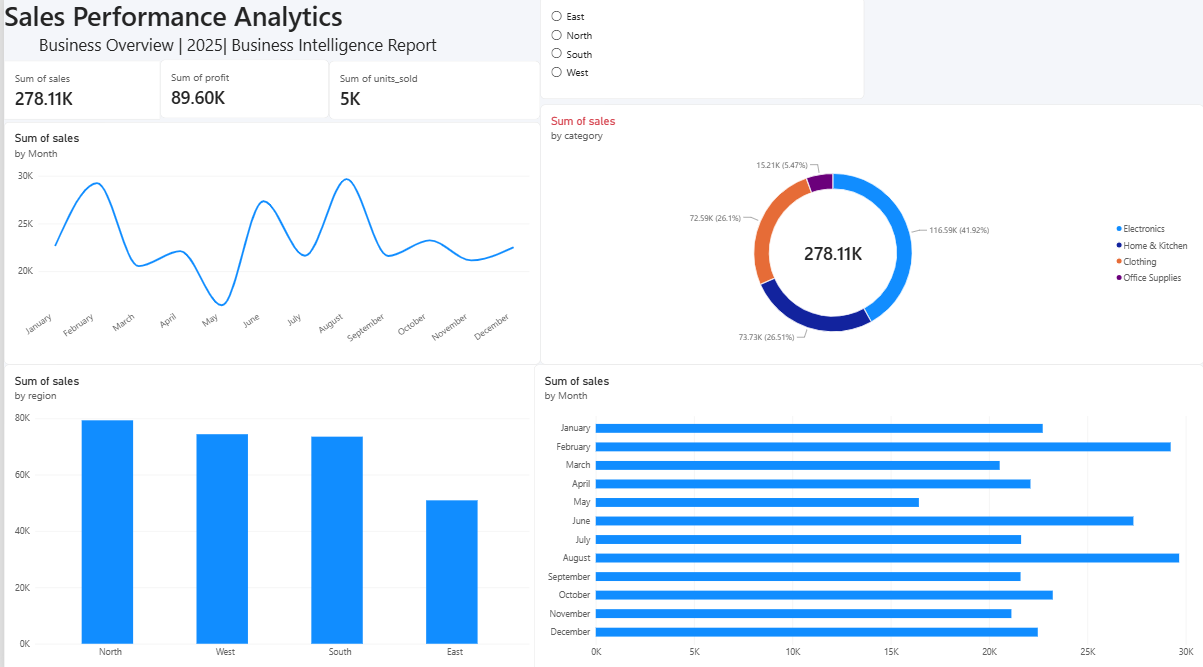

This screenshot's page, from the dashboard's own definition file:
{"tool":"powerbi","page":{"name":"Page 1","canvas":[1920,1080],"ordinal":0},"visuals":[{"type":"cardVisual","fields":{"Data":["Sum(retail_sales_simulated.sales)"]},"box":[0,102,250,94],"z":0},{"type":"cardVisual","fields":{"Data":["Sum(retail_sales_simulated.profit)"]},"box":[250,100,270,94],"z":1000},{"type":"cardVisual","fields":{"Data":["Sum(retail_sales_simulated.units_sold)"]},"box":[520,102,338,94],"z":2000},{"type":"lineChart","fields":{"Category":["retail_sales_simulated.month.Variation.Date Hierarchy.Month"],"Y":["Sum(retail_sales_simulated.sales)"]},"box":[0,200,858,388],"z":3000},{"type":"donutChart","fields":{"Category":["retail_sales_simulated.category"],"Y":["Sum(retail_sales_simulated.sales)"]},"box":[858,172,1062,416],"z":4000},{"type":"clusteredColumnChart","fields":{"Category":["retail_sales_simulated.region"],"Y":["Sum(retail_sales_simulated.sales)"]},"box":[0,588,858,492],"z":5000},{"type":"barChart","fields":{"Category":["retail_sales_simulated.month.Variation.Date Hierarchy.Month"],"Y":["Sum(retail_sales_simulated.sales)"]},"box":[848,588,1072,492],"z":6000},{"type":"textbox","box":[0,0,748,102],"z":7000},{"type":"listSlicer","fields":{"Values":["retail_sales_simulated.region"]},"box":[858,0,518,163],"z":8000}]}

Visuals, with their boxes in screenshot pixels (x1, y1, x2, y2), scaled from the page's 1920x1080 canvas onto the 1203x667 screenshot:
cardVisual - Sum(retail_sales_simulated.sales): crop(0, 63, 157, 121)
cardVisual - Sum(retail_sales_simulated.profit): crop(157, 62, 326, 120)
cardVisual - Sum(retail_sales_simulated.units_sold): crop(326, 63, 538, 121)
lineChart - retail_sales_simulated.month.Variation.Date Hierarchy.Month x Sum(retail_sales_simulated.sales): crop(0, 124, 538, 363)
donutChart - retail_sales_simulated.category x Sum(retail_sales_simulated.sales): crop(538, 106, 1202, 363)
clusteredColumnChart - retail_sales_simulated.region x Sum(retail_sales_simulated.sales): crop(0, 363, 538, 666)
barChart - retail_sales_simulated.month.Variation.Date Hierarchy.Month x Sum(retail_sales_simulated.sales): crop(531, 363, 1202, 666)
textbox: crop(0, 0, 469, 63)
listSlicer - retail_sales_simulated.region: crop(538, 0, 862, 101)
